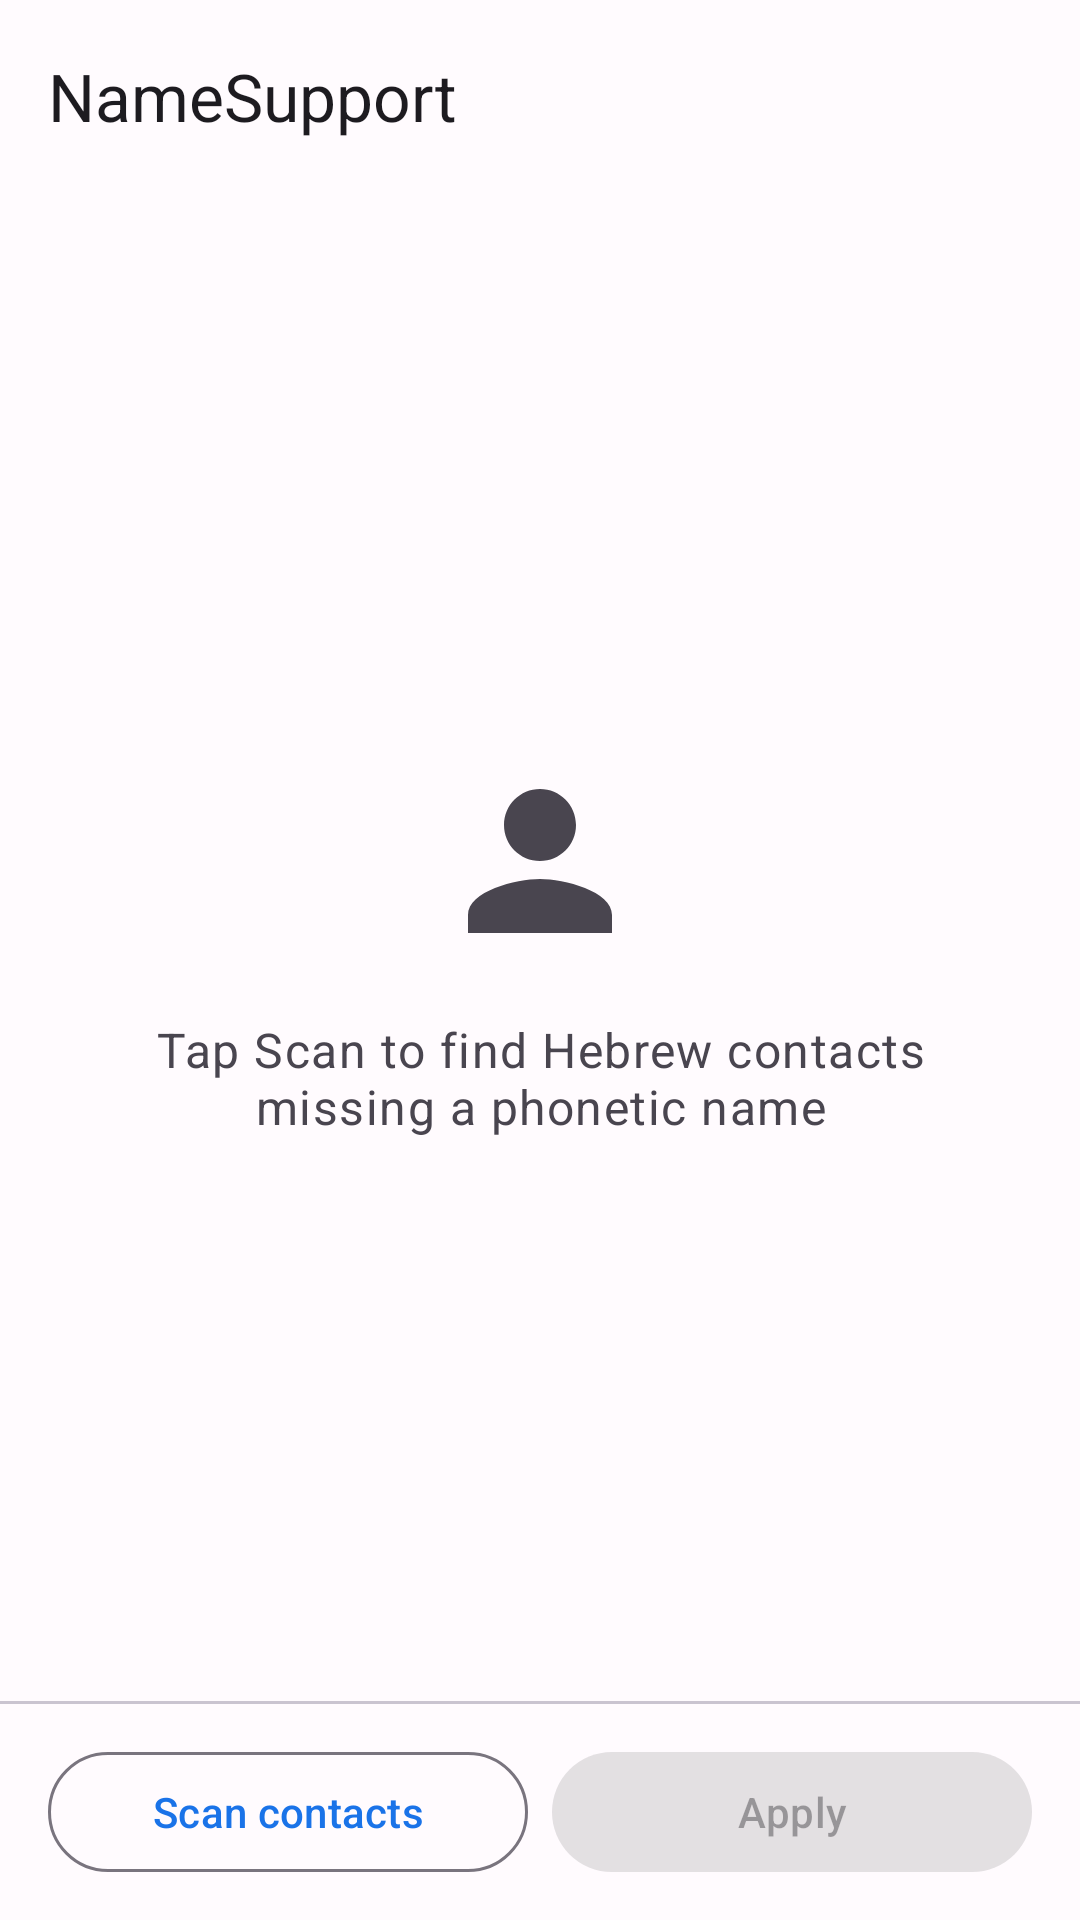

Icon click points for this 1080 × 1920 phone screenshot, format [x,y]:
contacts empty: [540,861]
